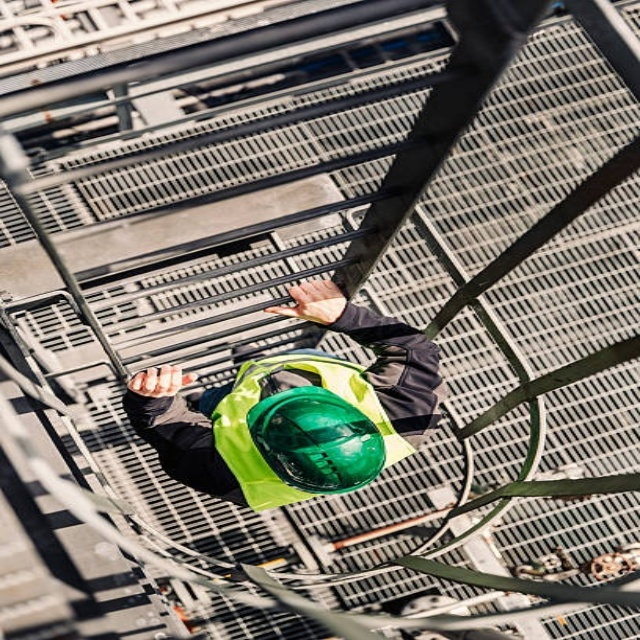Sin_guantes: (263, 278, 348, 324), (128, 364, 197, 398)
